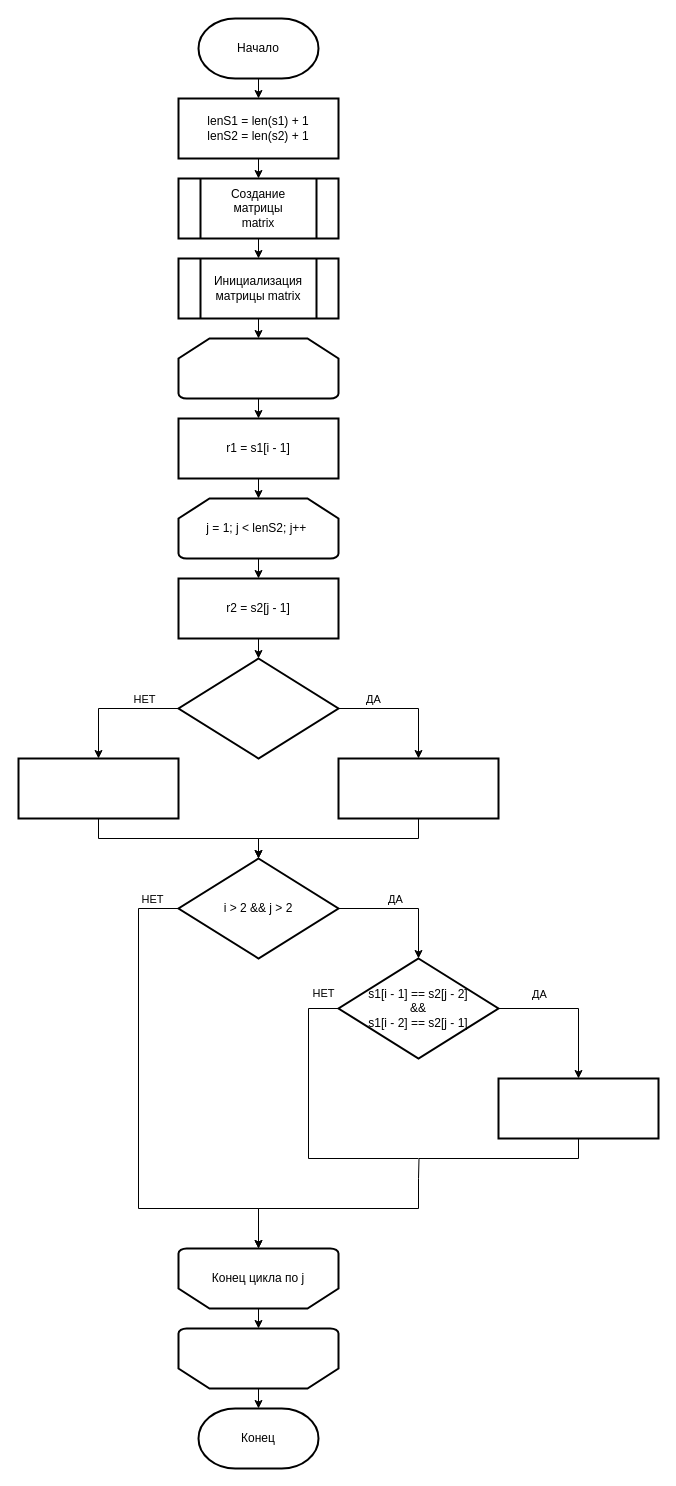
The diagram is 676 pixels wide and 1486 high, and some of its shapes have lost their labels. Here are the shapes that lost their labels. From the top down, the centre of each, then its label:
At (258,368): "i = 1; i < lenS1; i++".
At (258,708): "r1 == r2".
At (98,788): "matrix[i][j] = min(matrix[i][j], matrix[i - 1][j - 1] + 1)".
At (418,788): "matrix[i][j] = min(matrix[i][j], matrix[i - 1][j - 1])".
At (578,1108): "matrix[i][j] = min(matrix[i][j], matrix[i - 2][j - 2] + 1)".
At (258,1358): "Конец цикла по i".
